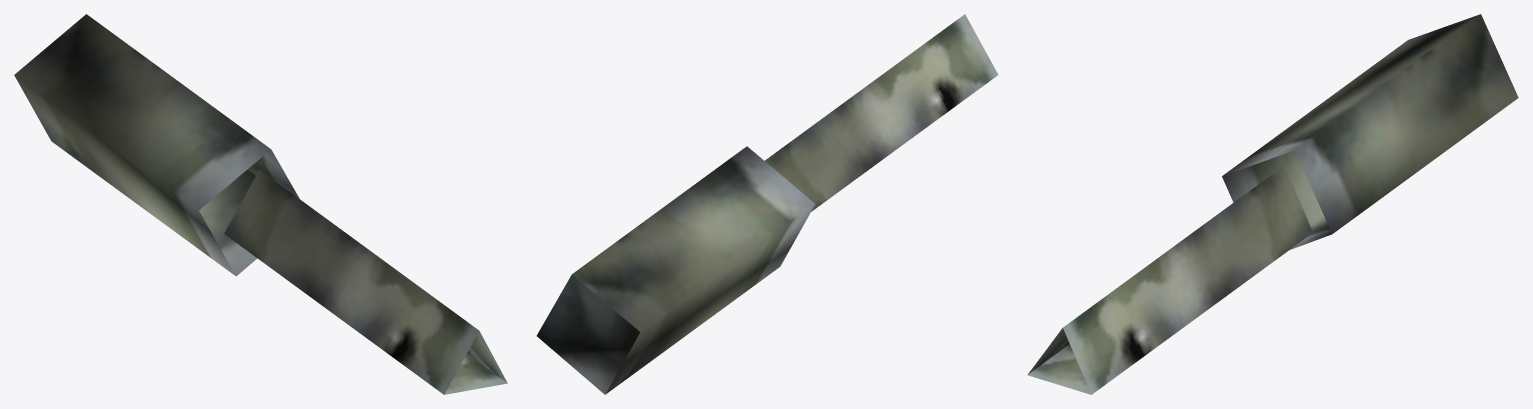
Rendered from USA - Aviation - Spectre Gunship - Damage State 2 - AVSGunship_d2.glb.
The picture shows the model from 3 angles, left to right: view 1: azimuth 30°, elevation 25°; view 2: azimuth 150°, elevation 25°; view 3: azimuth 330°, elevation 25°; orthographic projection. The views are drawn at different scales.
Parts seen in each view (by area): view 1: AVSGUNSHIP_D2; view 2: AVSGUNSHIP_D2; view 3: AVSGUNSHIP_D2.
Part boxes in pixels (bbox=[...]): AVSGUNSHIP_D2: bbox=[14, 14, 507, 394]; AVSGUNSHIP_D2: bbox=[536, 14, 998, 394]; AVSGUNSHIP_D2: bbox=[1027, 14, 1518, 394].
Size of the model in its own units: 2.19 by 2.27 by 13.99.
1 material, 1 textured.
